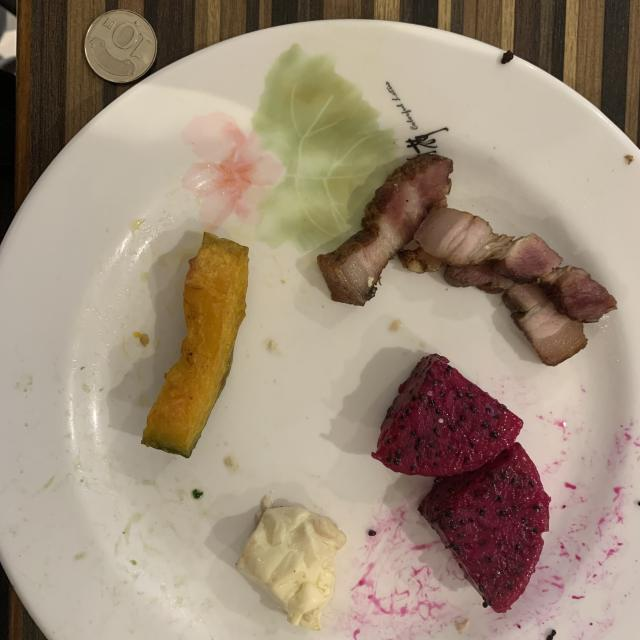coin: (85, 10, 156, 82)
grilled pork: (318, 154, 616, 365)
pumpkin: (141, 232, 249, 458)
